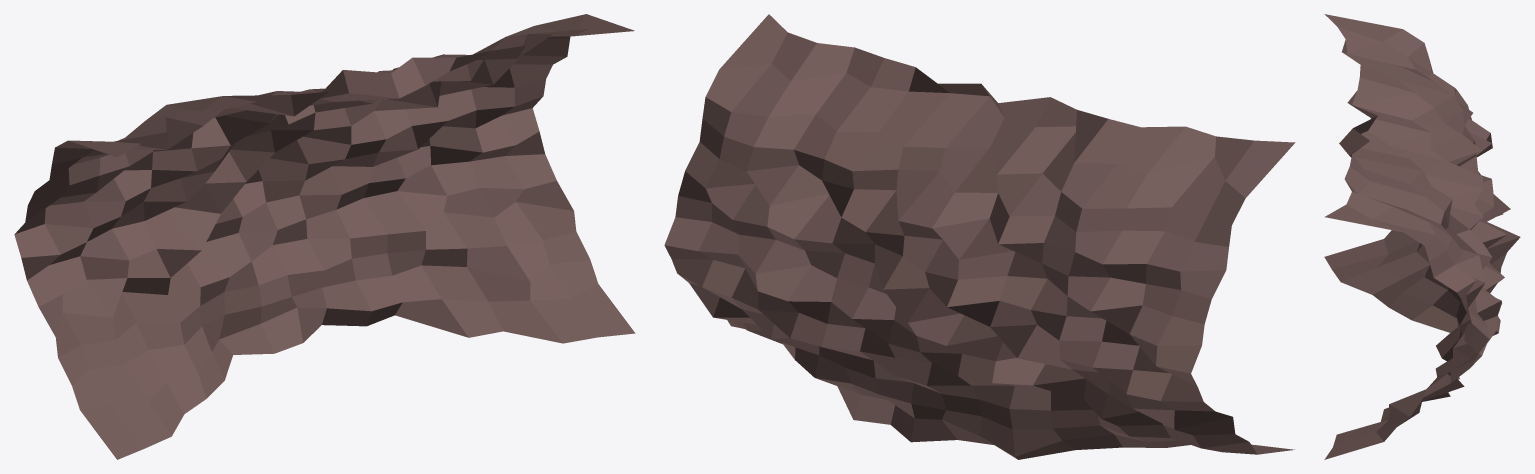
File: Cave Wall - Bottom Double Sides.fbx
3 views of the same model, side by side, from view 1: azimuth 30°, elevation 25°; view 2: azimuth 150°, elevation 25°; view 3: azimuth 270°, elevation 25° (orthographic). The views are drawn at different scales.
Visible parts, largest first — view 1: Plane.002; view 2: Plane.002; view 3: Plane.002.
Boxes of the visible parts, bbox=[...] form: Plane.002: bbox=[14, 14, 635, 459]; Plane.002: bbox=[664, 14, 1295, 459]; Plane.002: bbox=[1324, 14, 1520, 459].
Size of the model in its own units: 3317 by 1850 by 1356.
